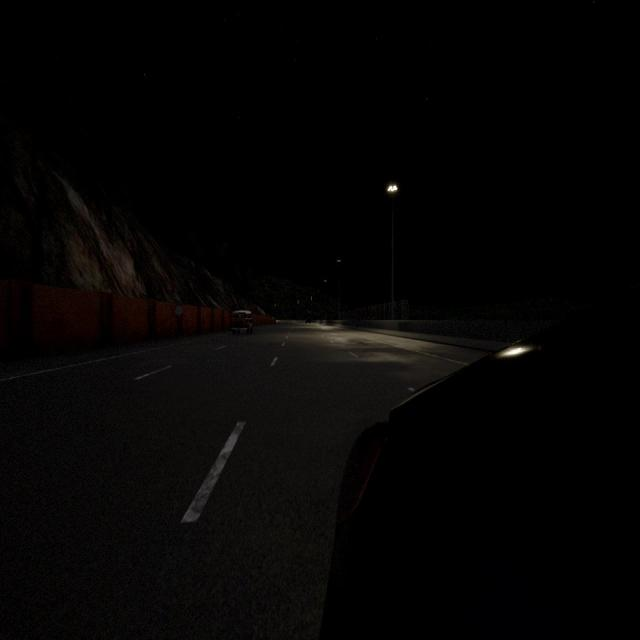Traffic_Signs: (175, 305, 183, 316)
Vehicle: (320, 286, 640, 637), (231, 310, 253, 335), (306, 318, 311, 324)
